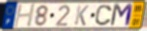2: (55, 4, 71, 27)
8: (34, 4, 50, 27)
C: (94, 4, 113, 27)
H: (13, 3, 37, 29)
K: (73, 5, 90, 27)
M: (109, 3, 134, 28)
